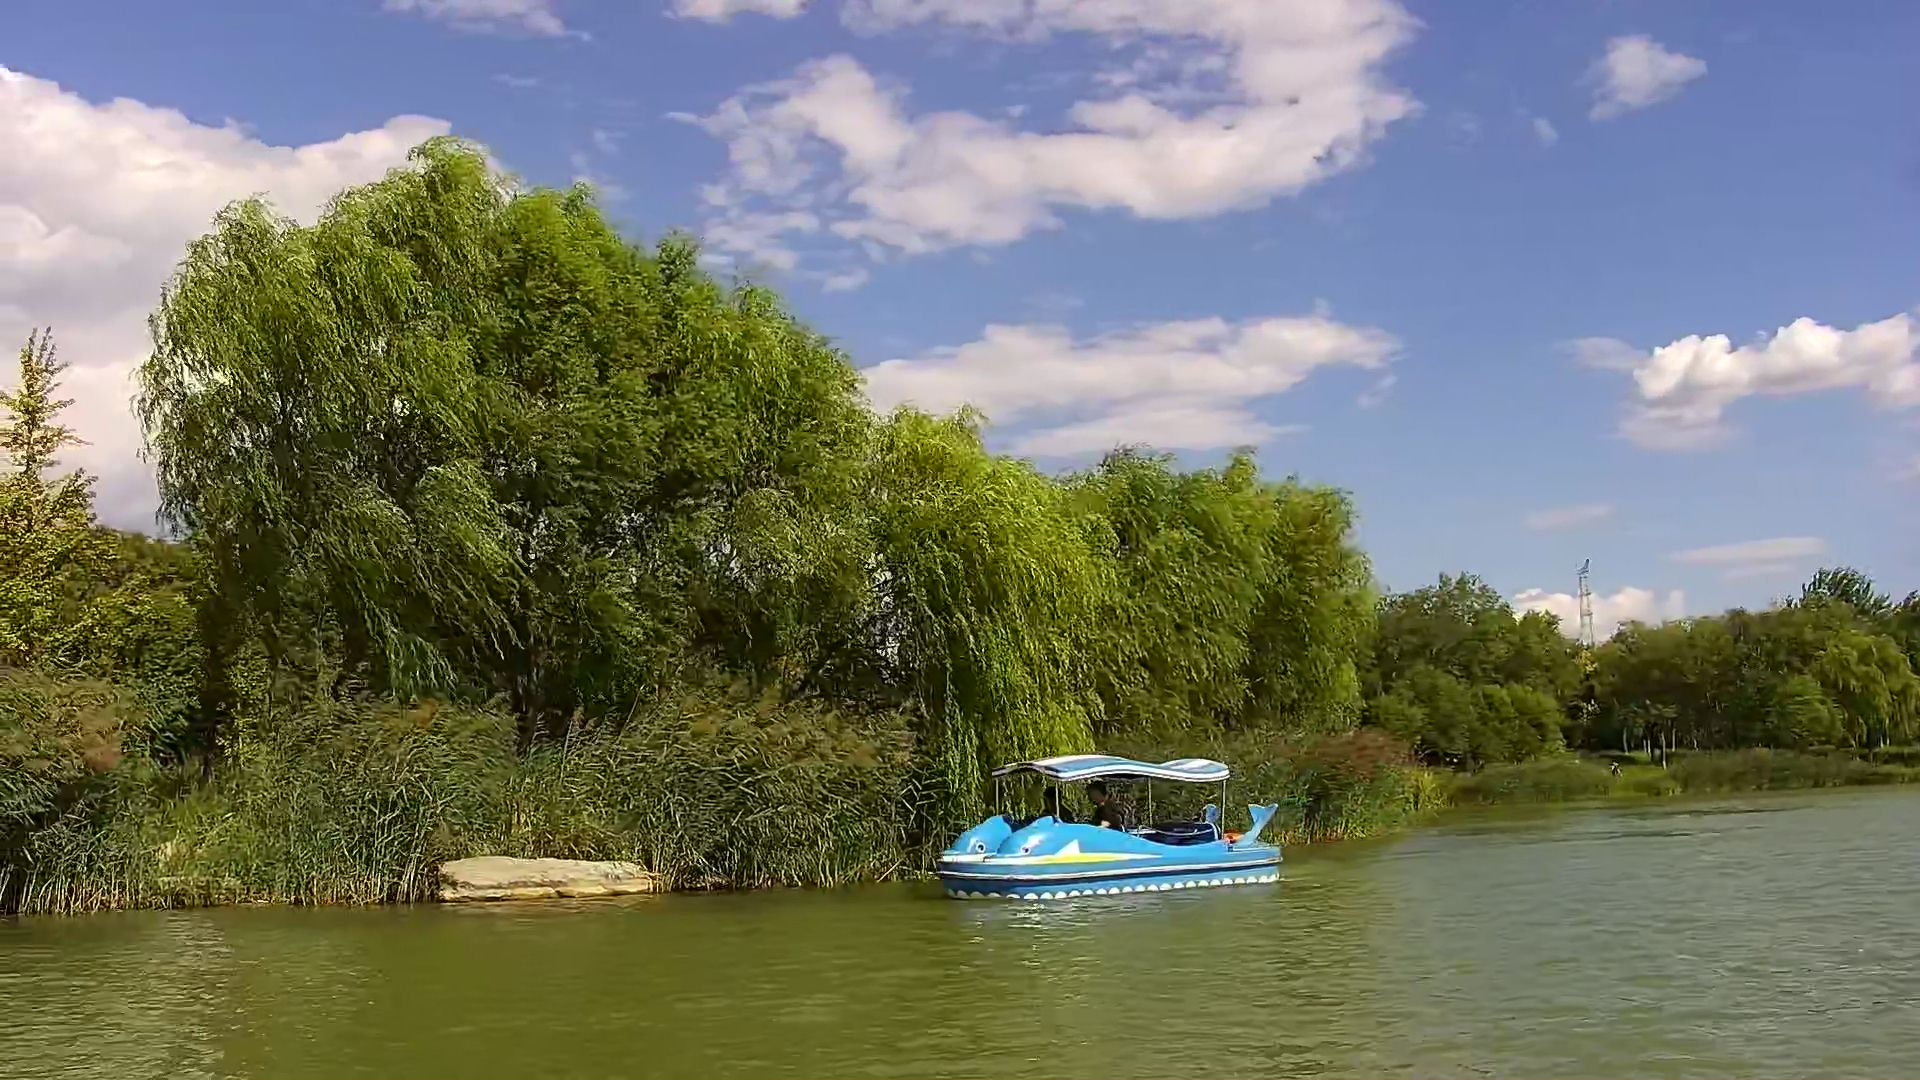boat: (939, 754, 1286, 898)
person: (1087, 784, 1125, 831), (1028, 788, 1072, 825)
rock: (437, 856, 653, 904)
